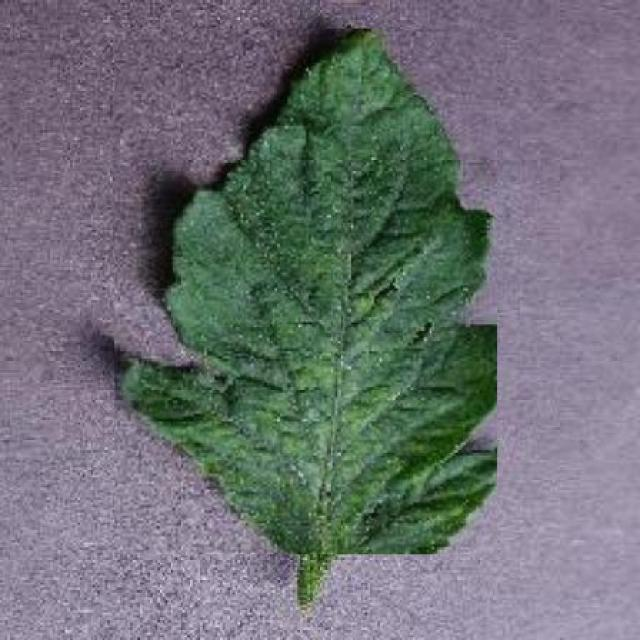Mosaic Virus: (114, 28, 497, 555)
